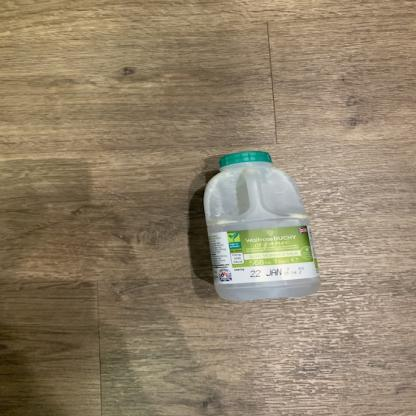trash: (197, 150, 325, 303)
